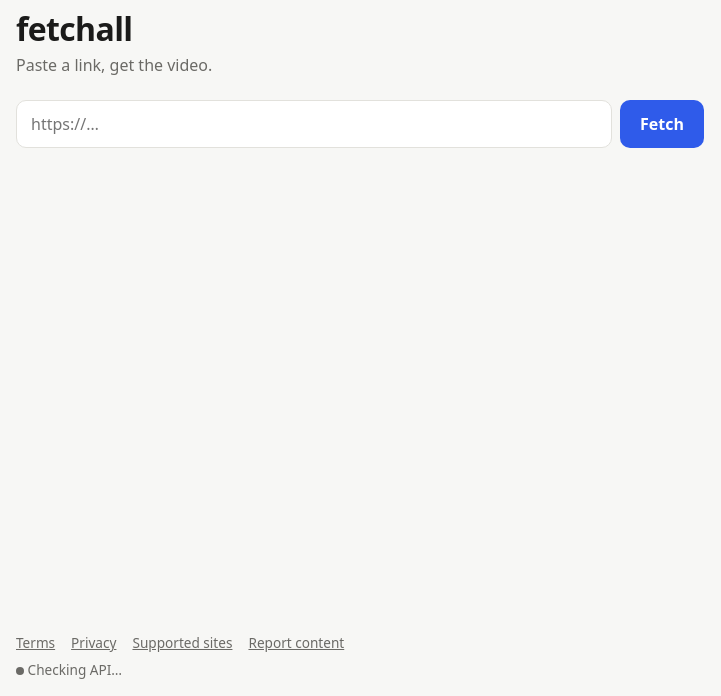
Test: explains when the link isn't a web link
The image size is (721, 696).
Type "ftp://nope" into the field named "Video link".
click(314, 124); type("ftp://nope")  # box [16, 100, 612, 148]
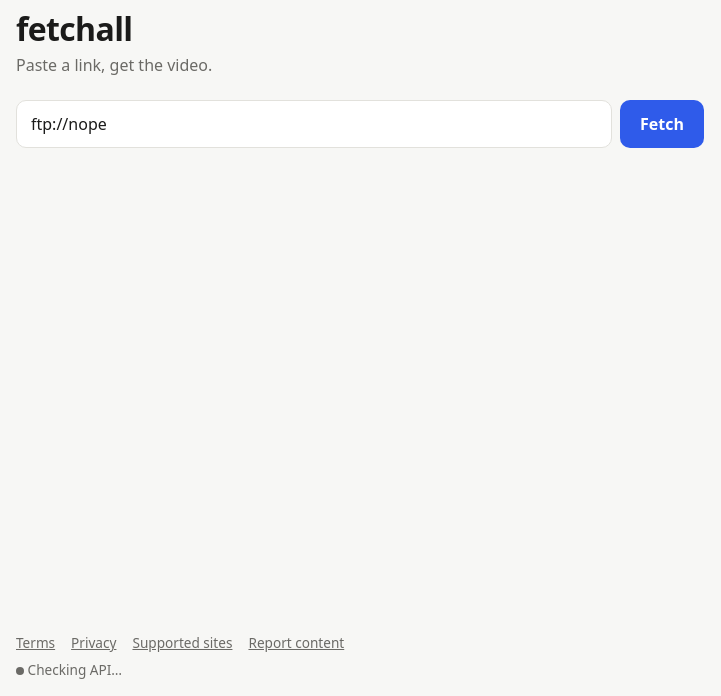
Click the button "Fetch".
click(662, 124)  # box [620, 100, 704, 148]
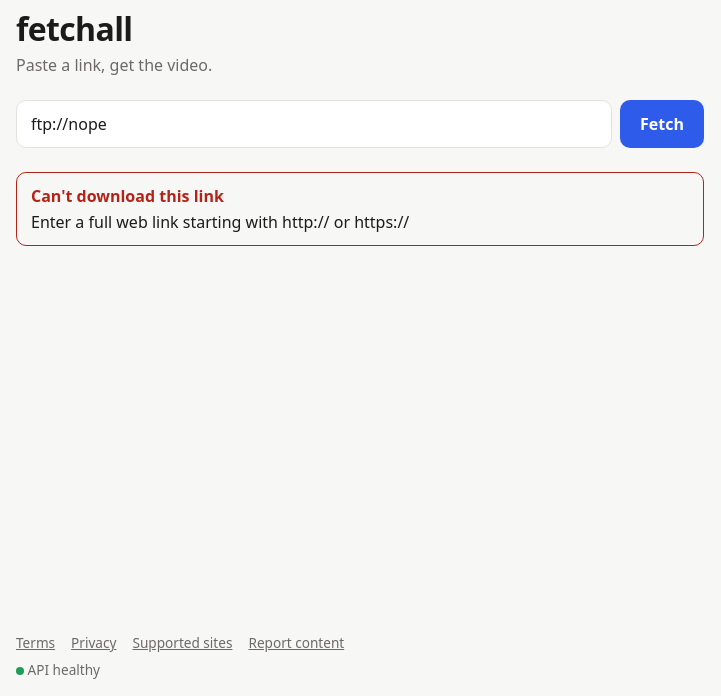
Check: the message shows "Enter a full web link starting with http:// or https://", box [31, 211, 409, 233]
